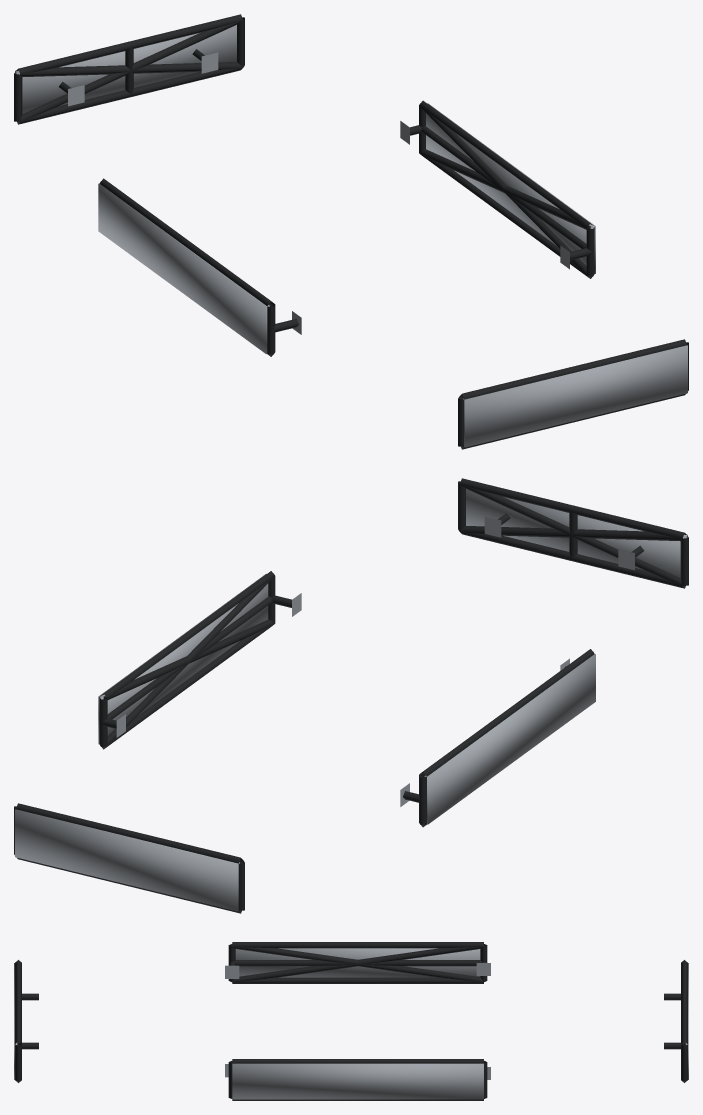
File: garrison_trovao_protecao.glb
3 renders of one model, top to bottom at view 1: azimuth 30°, elevation 25°; view 2: azimuth 150°, elevation 25°; view 3: azimuth 270°, elevation 25°, orthographic. The views are drawn at different scales.
Parts seen in each view (by area): view 1: Protection_front_Level3_Details, Protection_left_Level3_Details, Protection_rear_Level1_Details, Protection_rear_Level3_Details, Protection_right_Level1_Details, Protection_right_Level2_Details, Protection_rear_Level2_Details, Protection_right_Level3_Details, Protection_front_Level1_Details, Protection_left_Level1_Details; view 2: Protection_rear_Level3_Details, Protection_left_Level3_Details, Protection_front_Level1_Details, Protection_front_Level3_Details, Protection_right_Level1_Details, Protection_right_Level2_Details, Protection_front_Level2_Details, Protection_right_Level3_Details, Protection_rear_Level1_Details, Protection_left_Level1_Details; view 3: Protection_right_Level3_Details, Protection_left_Level2_Details, Protection_left_Level1_Details, Protection_left_Level3_Details, Protection_right_Level1_Details, Protection_rear_Level1_Details, Protection_front_Level1_Details.
Boxes of the visible parts, <box> form: Protection_front_Level3_Details: <box>463,345,687,447</box>; Protection_left_Level3_Details: <box>98,183,269,353</box>; Protection_rear_Level1_Details: <box>14,14,244,124</box>; Protection_rear_Level3_Details: <box>15,25,236,113</box>; Protection_right_Level1_Details: <box>400,100,594,278</box>; Protection_right_Level2_Details: <box>419,106,593,278</box>; Protection_rear_Level2_Details: <box>16,20,242,123</box>; Protection_right_Level3_Details: <box>426,103,595,273</box>; Protection_front_Level1_Details: <box>458,339,688,449</box>; Protection_left_Level1_Details: <box>99,178,301,356</box>; Protection_rear_Level3_Details: <box>15,809,239,911</box>; Protection_left_Level3_Details: <box>424,654,595,824</box>; Protection_front_Level1_Details: <box>458,478,688,588</box>; Protection_front_Level3_Details: <box>466,489,687,577</box>; Protection_right_Level1_Details: <box>99,571,301,749</box>; Protection_right_Level2_Details: <box>100,577,274,748</box>; Protection_front_Level2_Details: <box>460,484,686,587</box>; Protection_right_Level3_Details: <box>98,574,268,744</box>; Protection_rear_Level1_Details: <box>14,803,244,913</box>; Protection_left_Level1_Details: <box>400,649,594,827</box>; Protection_right_Level3_Details: <box>232,1063,483,1099</box>; Protection_left_Level2_Details: <box>232,944,484,982</box>; Protection_left_Level1_Details: <box>225,942,490,983</box>; Protection_left_Level3_Details: <box>235,948,480,977</box>; Protection_right_Level1_Details: <box>225,1059,490,1100</box>; Protection_rear_Level1_Details: <box>664,960,687,1082</box>; Protection_front_Level1_Details: <box>15,960,38,1082</box>.
Size of the model in its own units: 2.18 by 0.354 by 5.15.
Materials: 1 (1 with a texture image).
